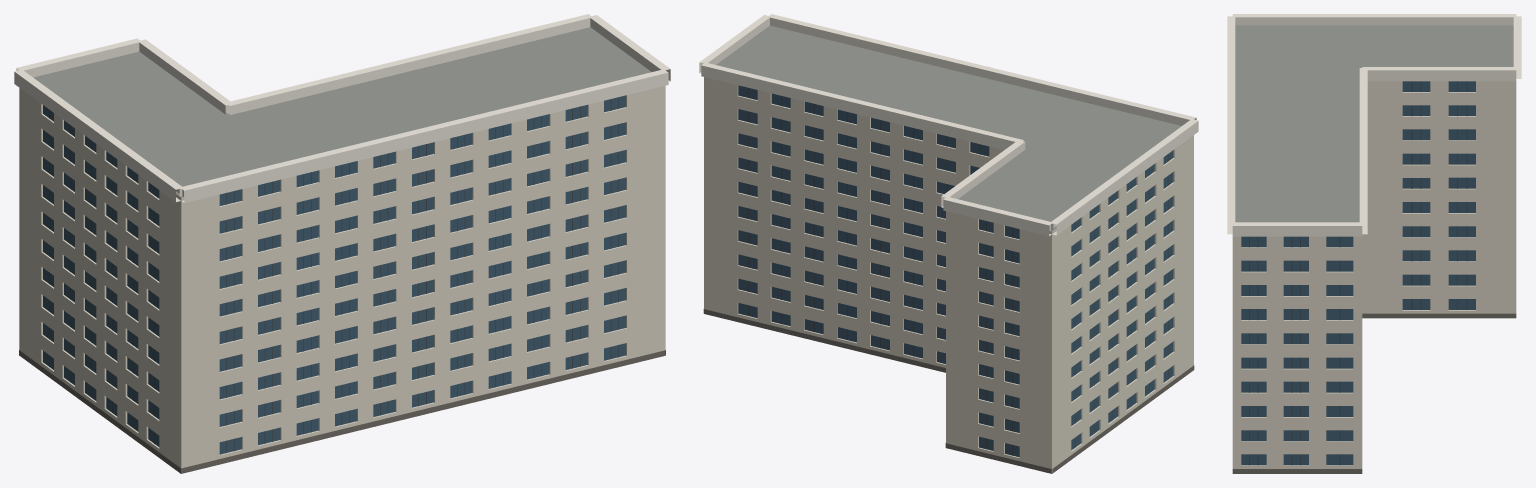
3 views of the same model, side by side, from view 1: azimuth 30°, elevation 25°; view 2: azimuth 150°, elevation 25°; view 3: azimuth 270°, elevation 25° (orthographic). The views are drawn at different scales.
Parts seen in each view (by area): view 1: frontierHall__wall, frontierHall__glass, frontierHall__roof, frontierHall__trim, frontierHall__frame, frontierHall__base; view 2: frontierHall__wall, frontierHall__roof, frontierHall__glass, frontierHall__trim, frontierHall__base, frontierHall__frame; view 3: frontierHall__wall, frontierHall__roof, frontierHall__glass, frontierHall__trim, frontierHall__frame, frontierHall__base.
Part boxes in pixels (<box>): frontierHall__wall: <box>19,85,665,473</box>; frontierHall__glass: <box>43,95,625,454</box>; frontierHall__roof: <box>33,27,651,197</box>; frontierHall__trim: <box>14,14,670,202</box>; frontierHall__frame: <box>49,97,618,452</box>; frontierHall__base: <box>19,350,665,473</box>; frontierHall__wall: <box>704,77,1193,473</box>; frontierHall__roof: <box>716,25,1181,231</box>; frontierHall__glass: <box>738,85,1173,457</box>; frontierHall__trim: <box>699,14,1198,236</box>; frontierHall__base: <box>703,309,1194,473</box>; frontierHall__frame: <box>748,87,1168,455</box>; frontierHall__wall: <box>1232,81,1516,468</box>; frontierHall__roof: <box>1235,25,1513,222</box>; frontierHall__glass: <box>1241,81,1475,465</box>; frontierHall__trim: <box>1227,14,1521,236</box>; frontierHall__frame: <box>1249,81,1467,465</box>; frontierHall__base: <box>1232,313,1516,473</box>.
Bounding box in the file's own units: 56.28 × 31.02 × 33.07.
